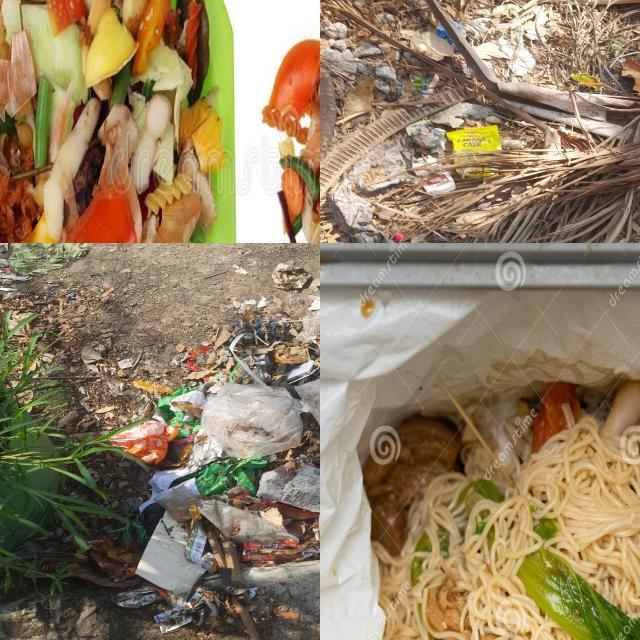Cig_pack: (287, 360, 313, 381), (136, 469, 152, 480)
Disposable: (153, 484, 204, 522)
Garbage: (27, 274, 320, 633), (320, 0, 640, 243), (362, 381, 640, 640)
Plastic_Bag: (200, 384, 303, 458), (195, 457, 266, 497), (157, 387, 202, 439), (296, 377, 320, 425), (141, 503, 166, 538), (296, 309, 320, 342), (308, 295, 320, 301)
Plastic_wraper: (447, 125, 503, 164), (87, 539, 136, 582), (280, 465, 320, 513), (155, 600, 211, 633), (242, 539, 301, 561), (407, 123, 445, 153), (192, 585, 223, 616), (112, 589, 162, 608), (186, 345, 213, 372), (37, 560, 77, 574), (456, 166, 497, 179), (225, 484, 249, 499), (199, 375, 220, 392), (171, 436, 193, 446)
Tetrapack: (423, 171, 456, 196), (412, 155, 438, 176)
